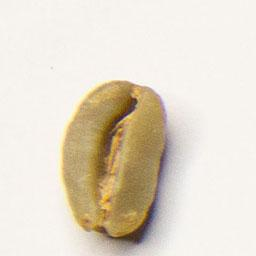longberry: (58, 76, 170, 240)
